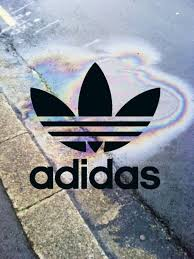adidas: (28, 63, 161, 190)
